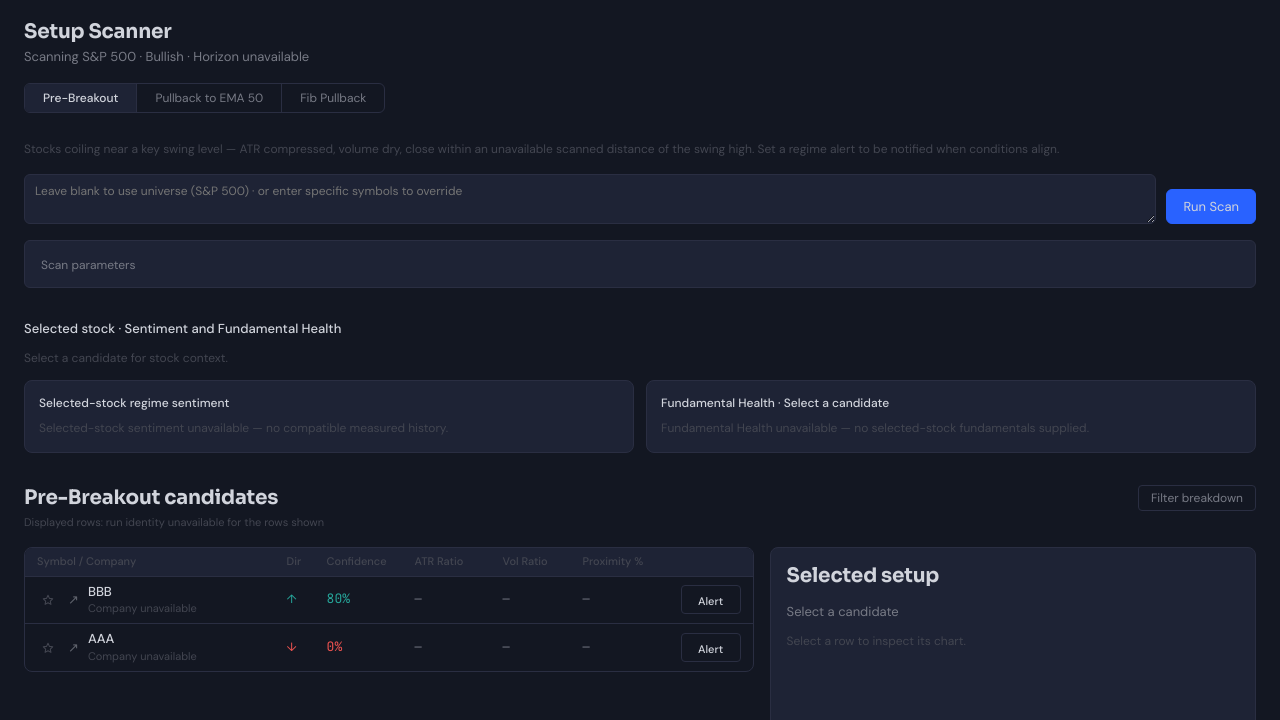
it: legacy scope never falls back to live controls or launches analysis
Click the button with aria-label "Select AAA" at (142, 656), box [25,624,753,671]
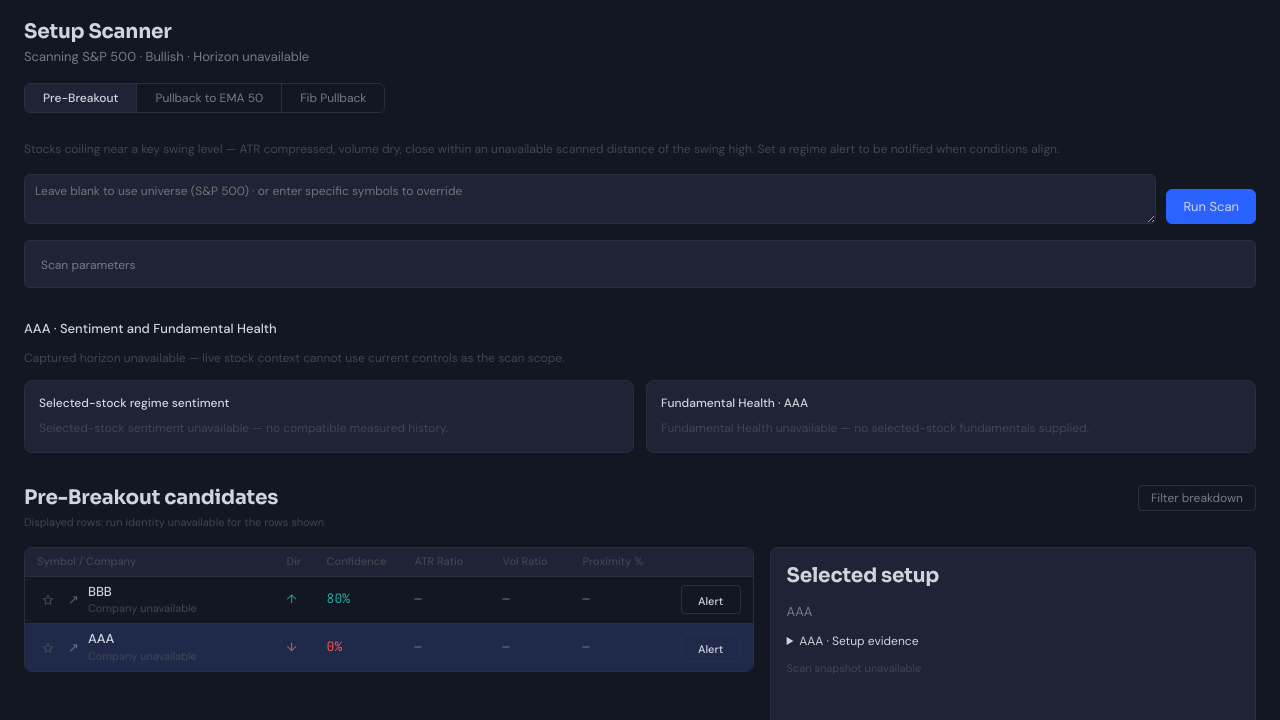
Check: the text "Captured horizon unavailable" is shown, box [24,350,564,366]
